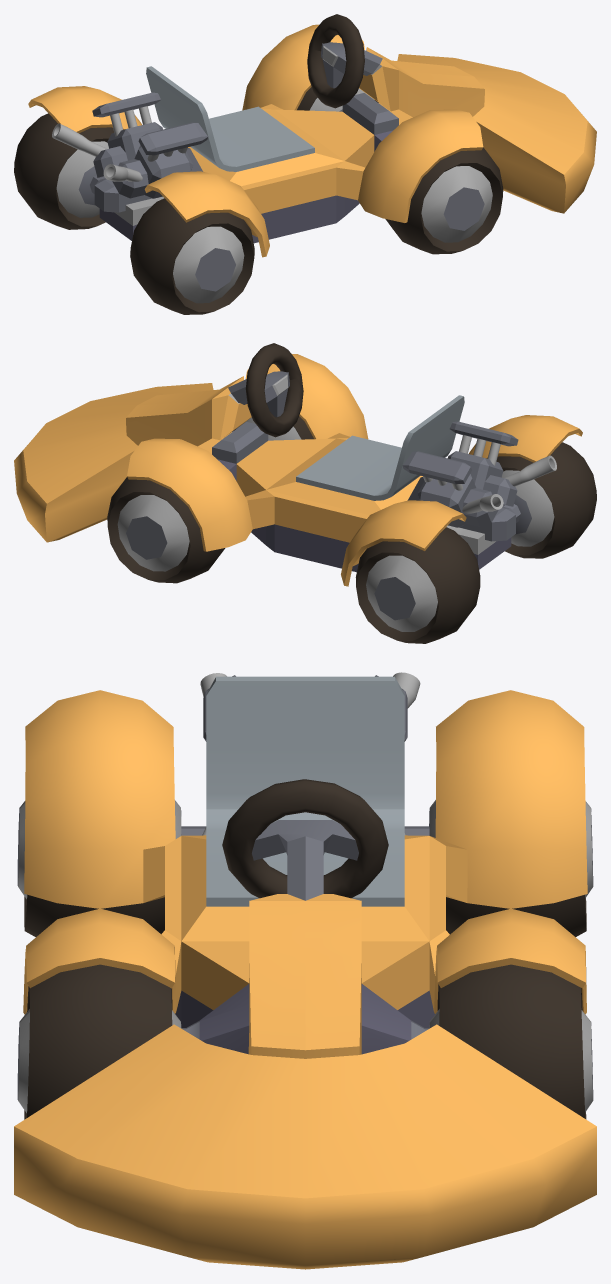
Rendered from Kart_004.fbx.
3 views of the same model, one above another, from view 1: azimuth 30°, elevation 25°; view 2: azimuth 150°, elevation 25°; view 3: azimuth 270°, elevation 25° (orthographic). The views are drawn at different scales.
Visible parts, largest first — view 1: Kart_003; view 2: Kart_003; view 3: Kart_003.
Boxes of the visible parts, x1=… form: Kart_003: x1=14, y1=14, x2=596, y2=314; Kart_003: x1=14, y1=343, x2=596, y2=643; Kart_003: x1=14, y1=672, x2=596, y2=1269.
Size of the model in its own units: 12.39 by 4.76 by 7.2.
